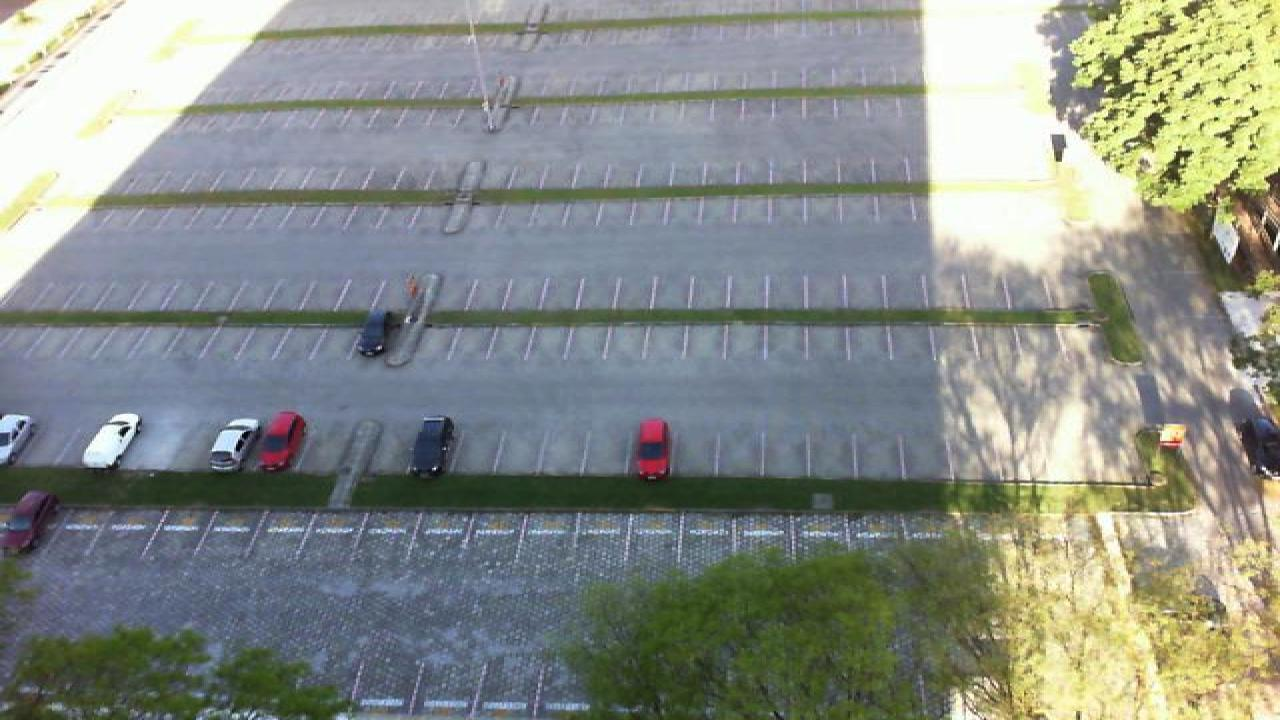Car: (0, 489, 60, 556), (80, 412, 144, 472), (408, 414, 458, 478), (258, 411, 306, 472), (208, 418, 262, 472), (1238, 415, 1280, 478), (632, 418, 672, 481), (356, 309, 398, 358), (0, 413, 34, 467)
